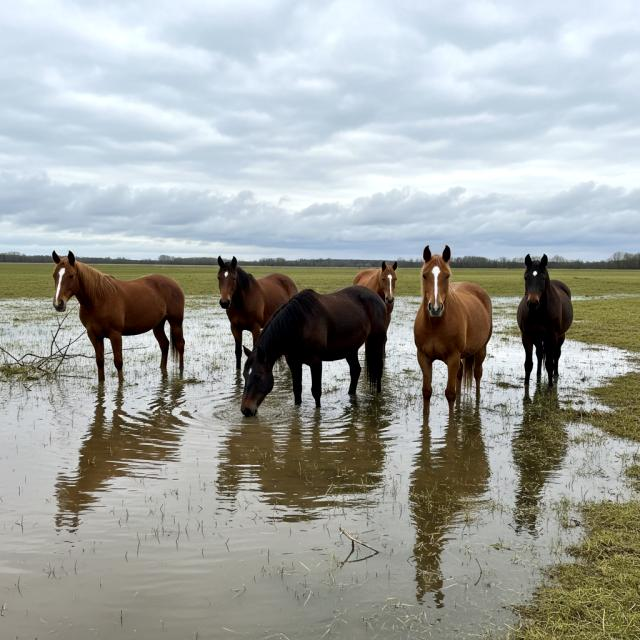horse: (237, 276, 393, 428), (41, 243, 197, 394), (413, 241, 499, 428), (210, 254, 300, 385), (517, 249, 580, 401), (356, 258, 403, 318)
